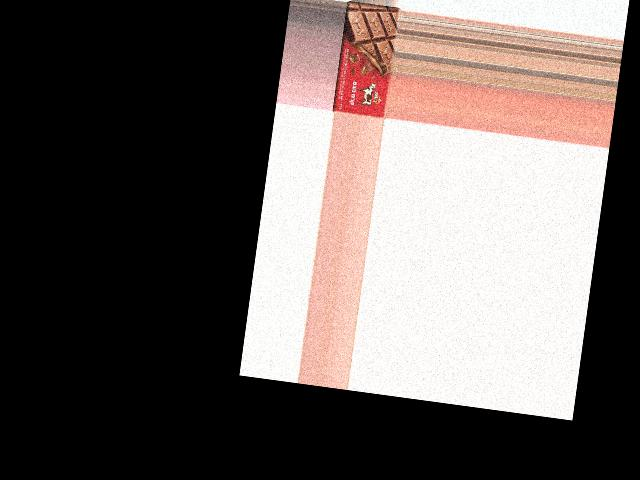chocolate: (333, 2, 400, 120)
